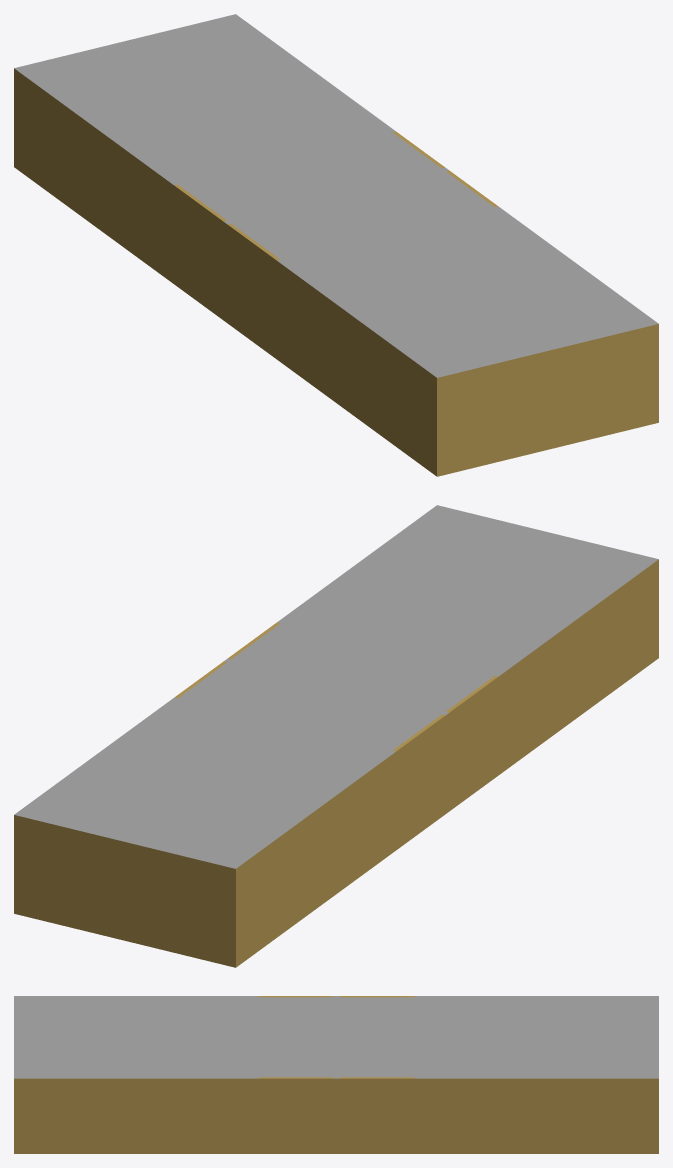
File: neon.fbx
3 renders of one model, top to bottom at view 1: azimuth 30°, elevation 25°; view 2: azimuth 150°, elevation 25°; view 3: azimuth 270°, elevation 25°, orthographic. The views are drawn at different scales.
Visible parts, largest first — view 1: Cube.007; view 2: Cube.007; view 3: Cube.007.
Part boxes in pixels (<box>): Cube.007: <box>14,14,658,476</box>; Cube.007: <box>14,505,658,967</box>; Cube.007: <box>14,996,658,1153</box>.
Bounding box in the file's own units: 0.7212 × 0.3073 × 2.38.
